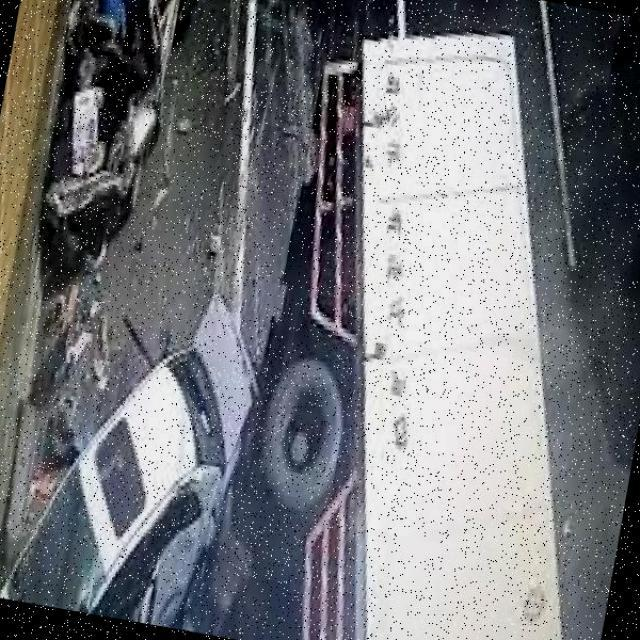accident: (0, 285, 271, 636)
